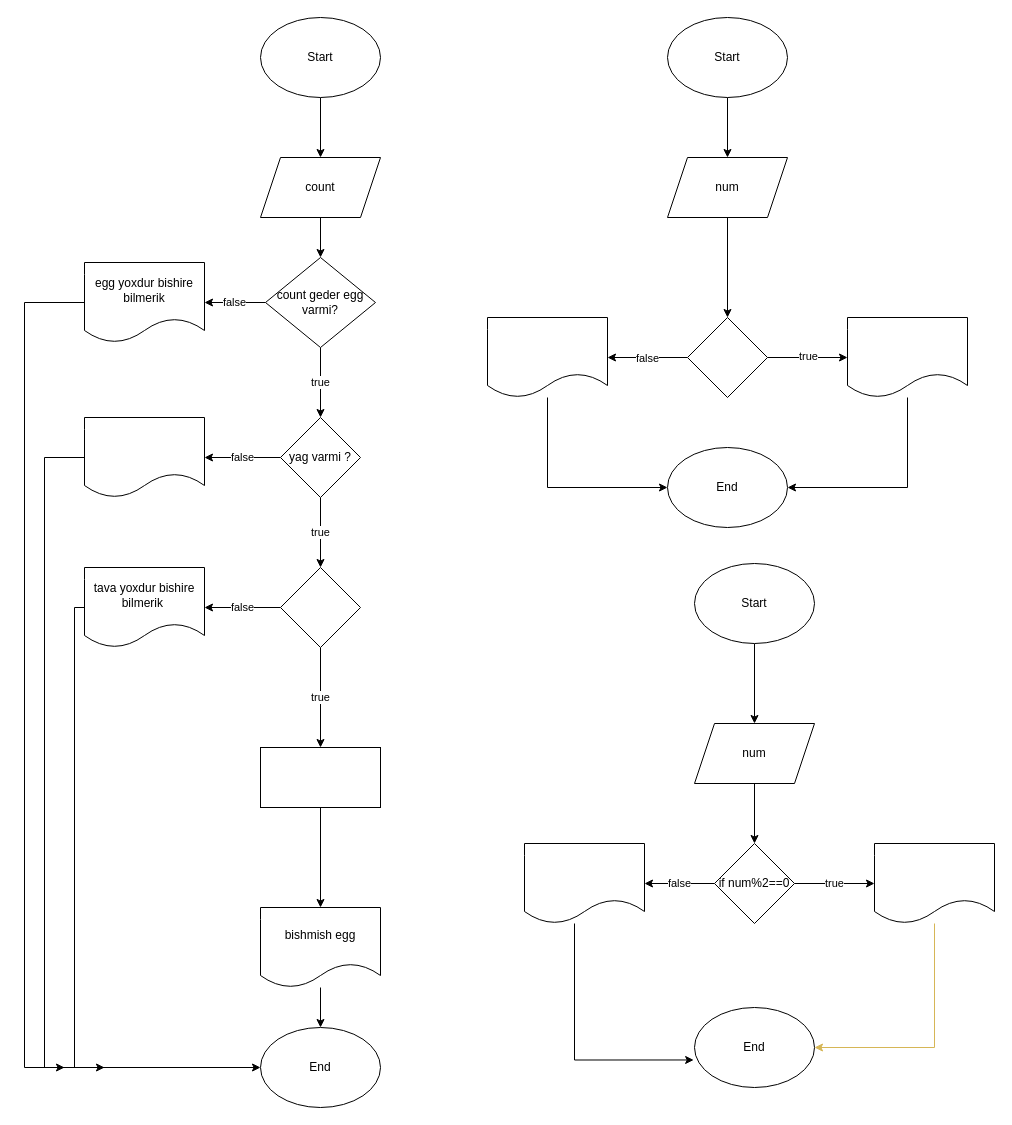
This 1012x1125 diagram has some shape labels left out. Here are the shapes that lost their labels. From the top down, the box of each, then its label:
(486, 316, 608, 398): no
(686, 316, 768, 398): if num>10
(846, 316, 968, 398): yes
(84, 416, 204, 498): yag yoxdur bishire bilmerik
(280, 566, 360, 648): tava varmi ?
(260, 746, 380, 808): count egg bishir
(524, 842, 644, 924): odd
(874, 842, 994, 924): even
